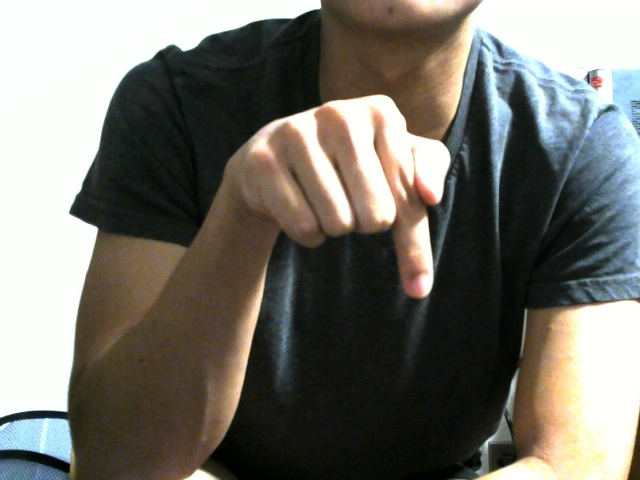down: (173, 64, 481, 335)
